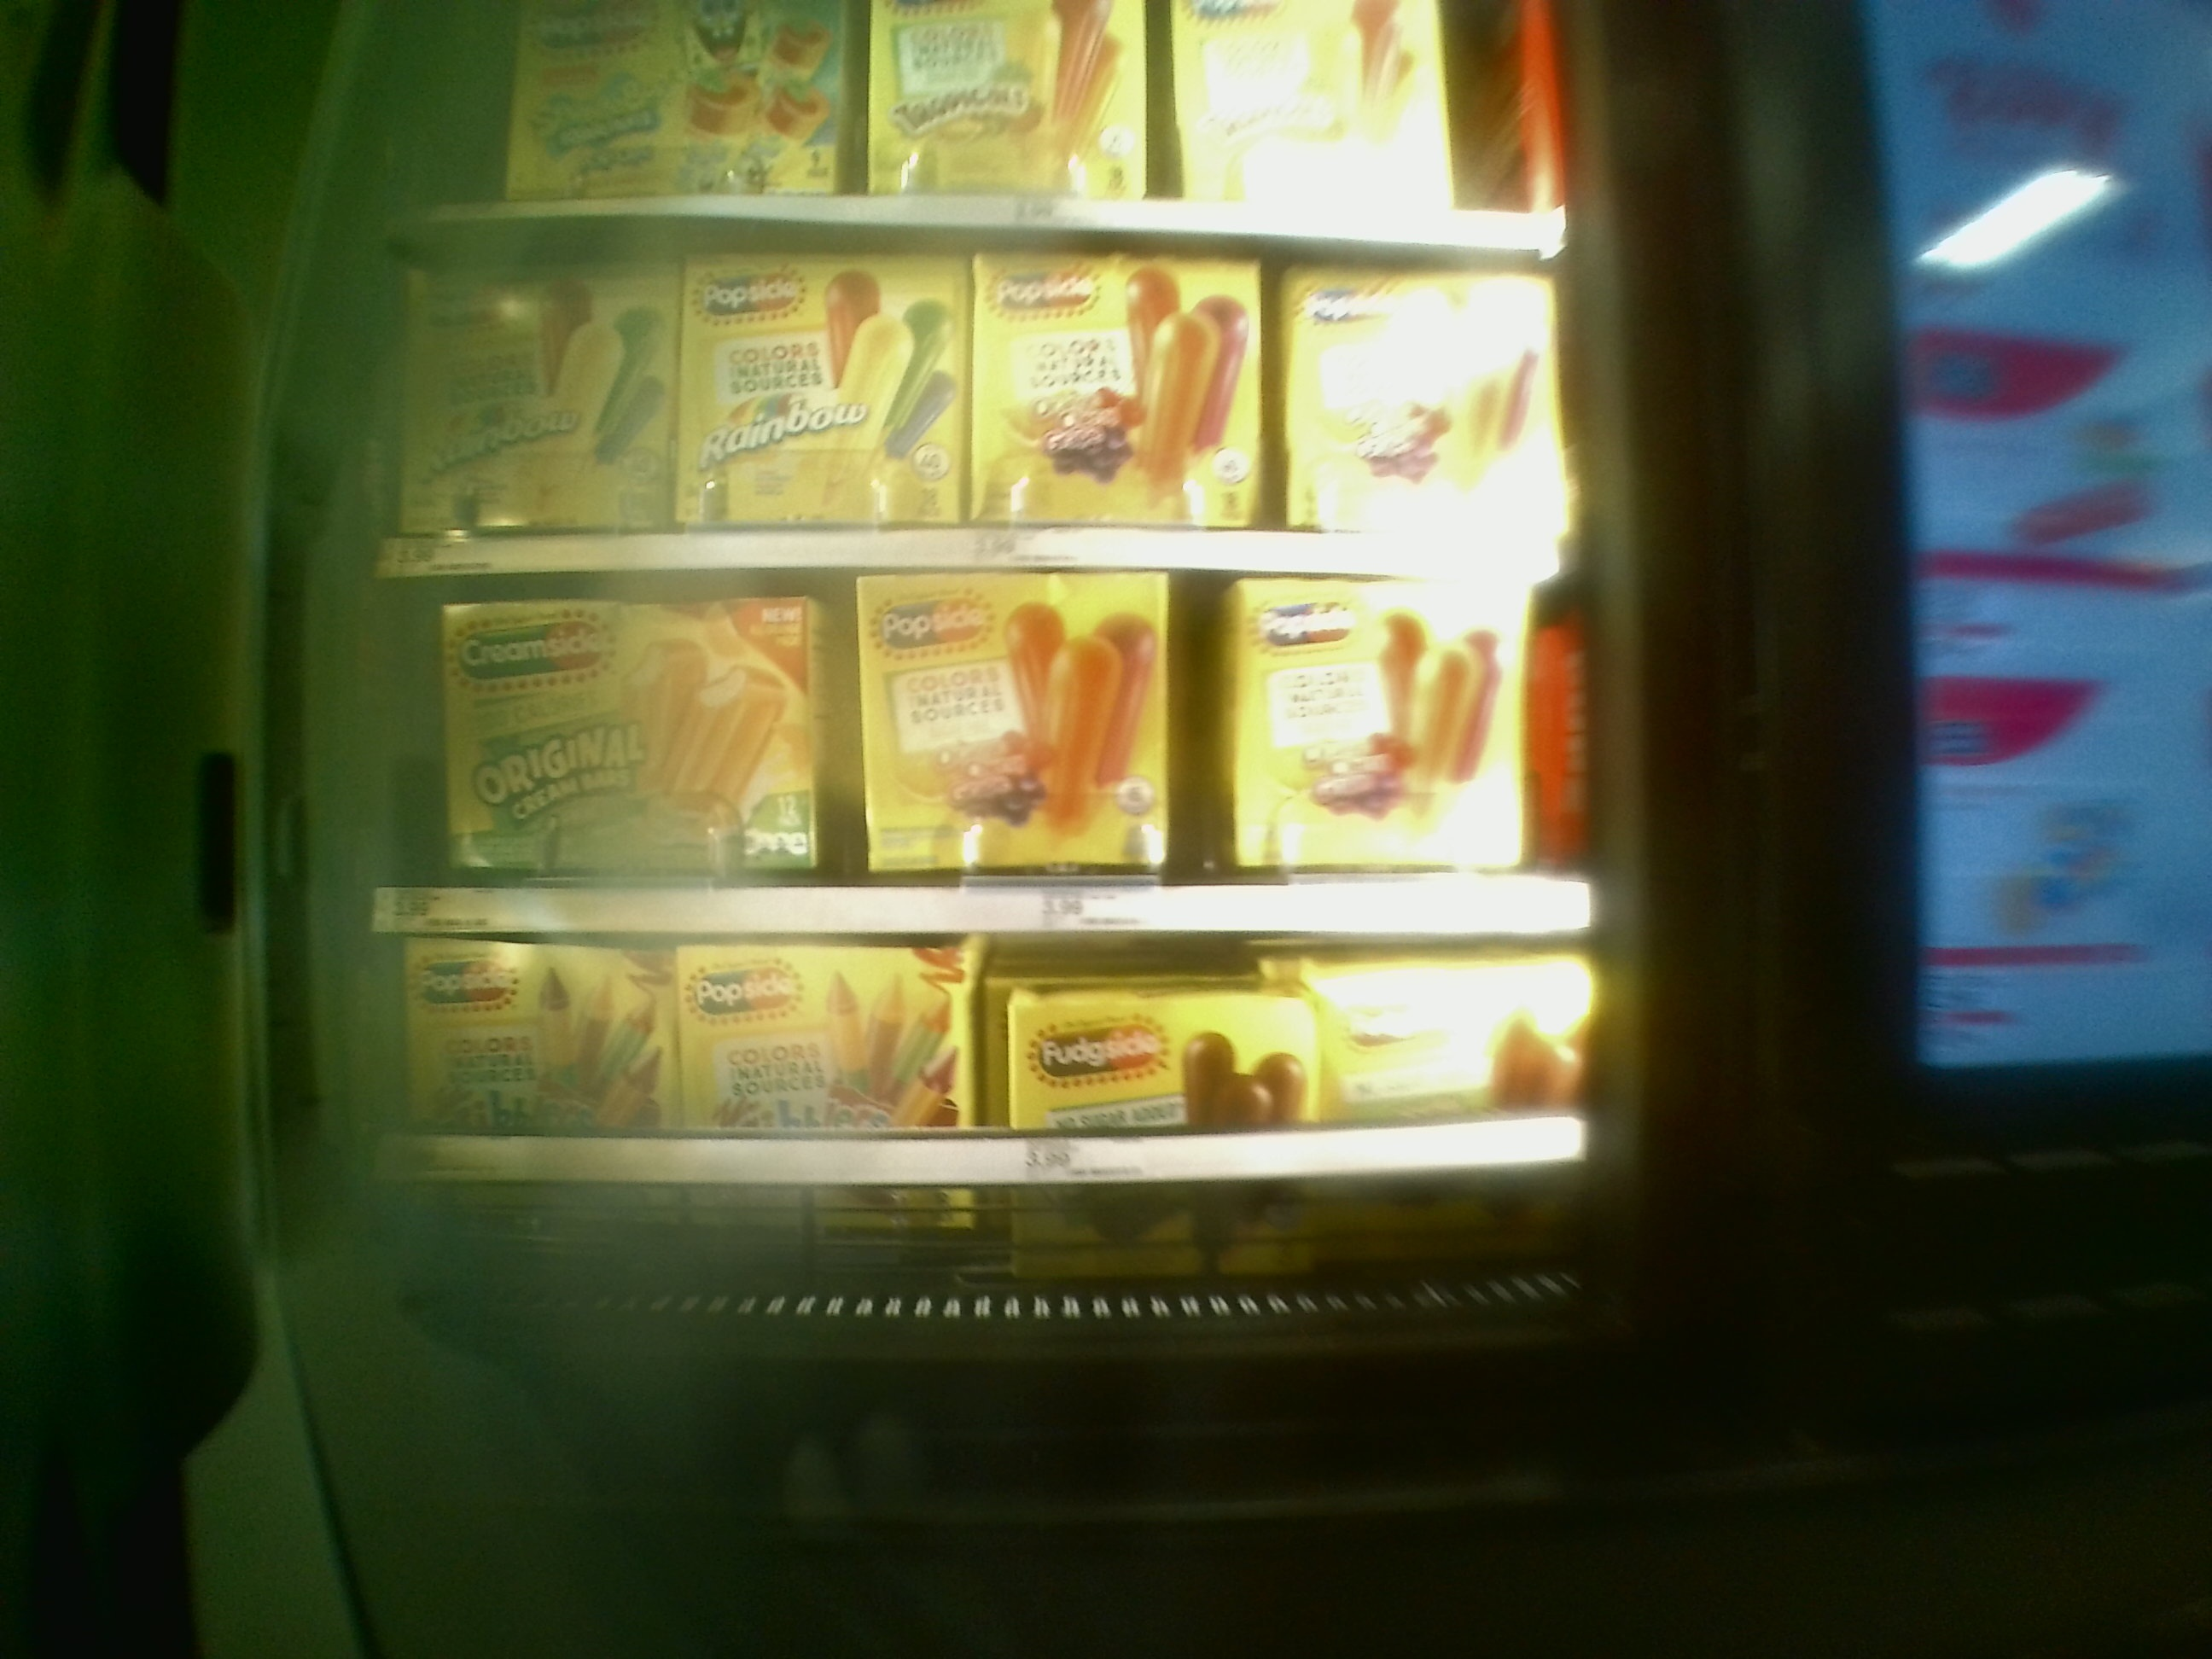frozen-food-shelf: (341, 934, 1601, 1188)
